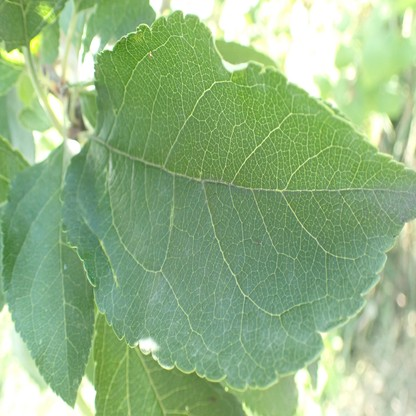powdery_mildew: (63, 11, 416, 390)
